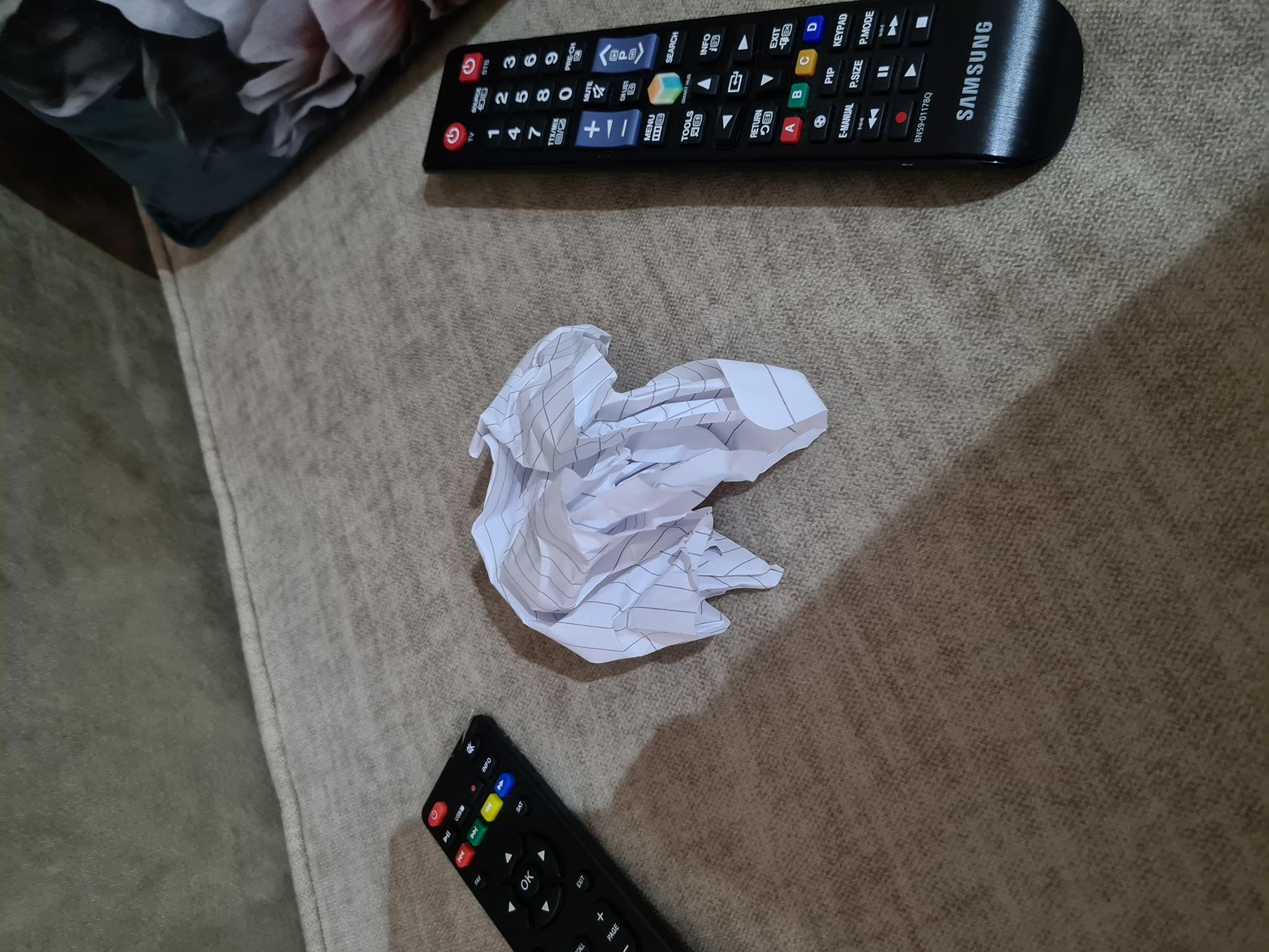Kertas: (289, 468, 628, 827)
